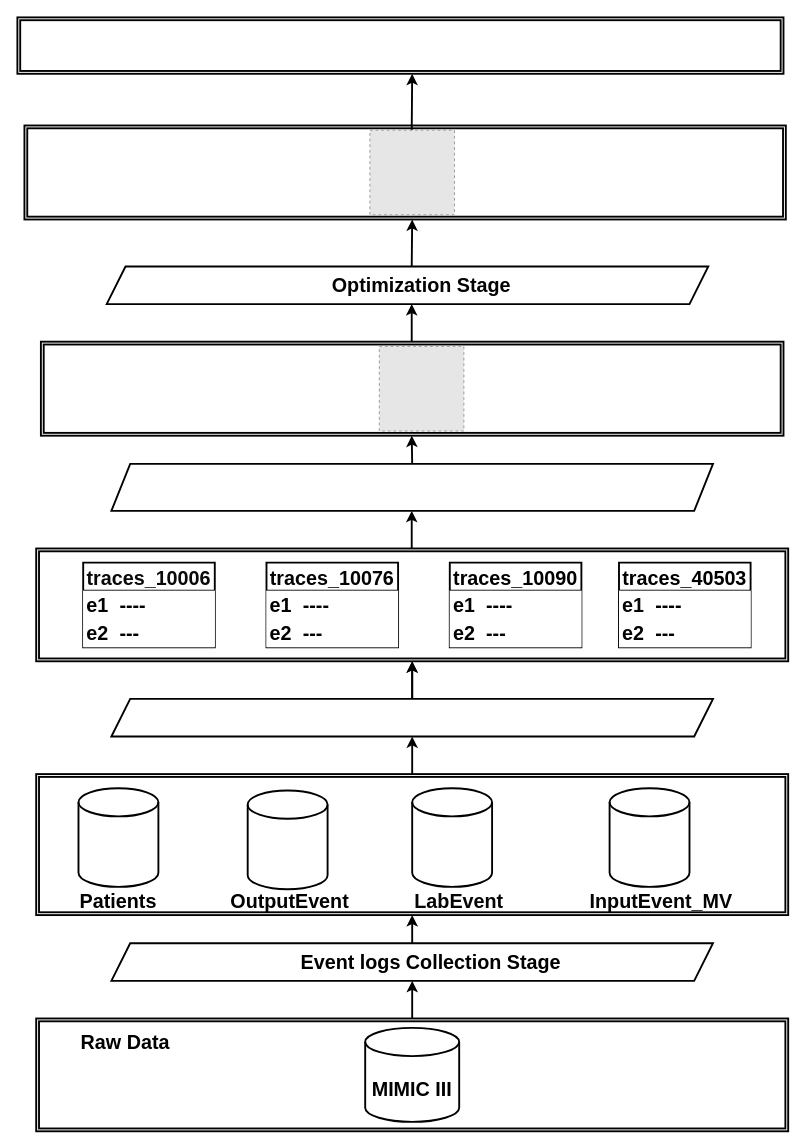
The diagram is 805 pixels wide and 1148 high, and some of its shapes have lost their labels. Grey dashed boxes stand in for pictures. The shapes that lost their labels are listed below. From the top down, each one's centre as x and y in pixels, then its label:
At pixel 400 45: "Vizualization Of the graph".
At pixel 411 486: "Clinical event-enhanced DHKG modeling Stage".
At pixel 411 717: "Log-based Clinical pathways mining stage".
